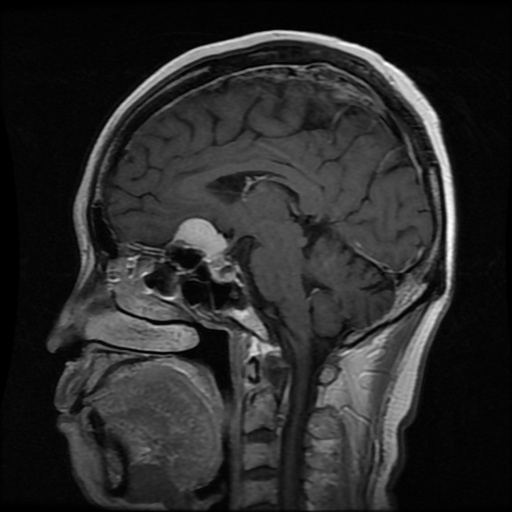meningioma: (174, 215, 226, 254)
